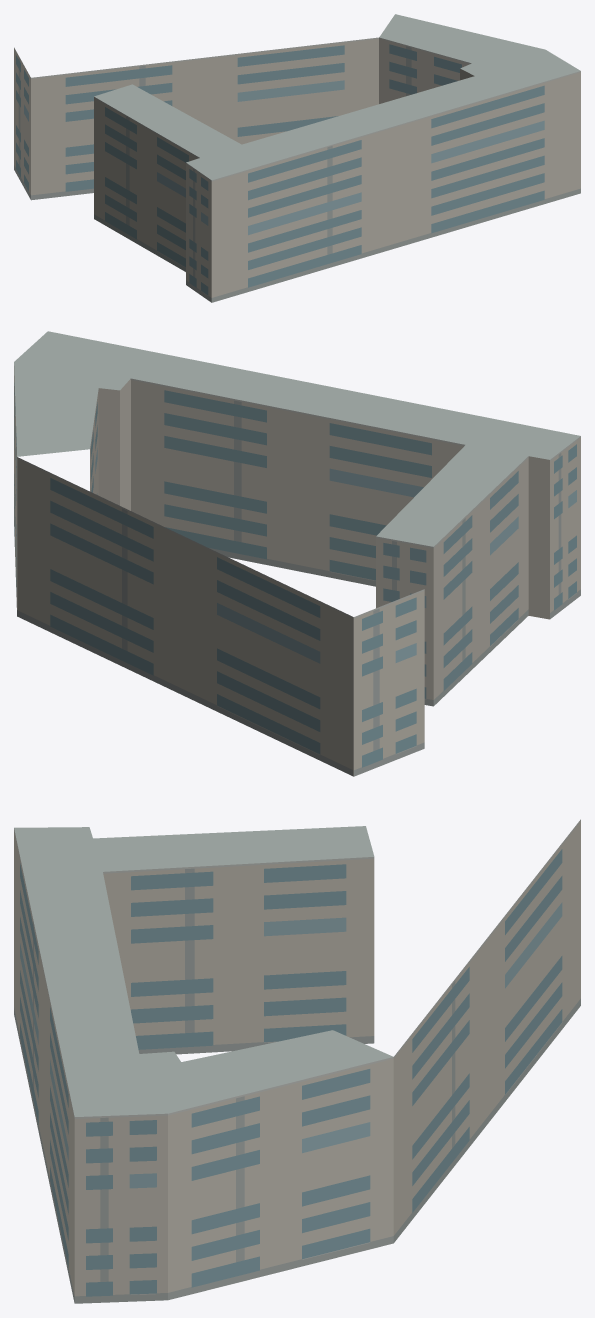
Rendered from residential-823aa729-4dda-44c4-87db-95105d133483.glb.
3 renders of one model, top to bottom at view 1: azimuth 30°, elevation 25°; view 2: azimuth 150°, elevation 25°; view 3: azimuth 270°, elevation 25°, orthographic. The views are drawn at different scales.
Parts seen in each view (by area): view 1: residential-823aa729-4dda-44c4-87db-95105d133483.tmp; view 2: residential-823aa729-4dda-44c4-87db-95105d133483.tmp; view 3: residential-823aa729-4dda-44c4-87db-95105d133483.tmp.
Part boxes in pixels (x1=…): residential-823aa729-4dda-44c4-87db-95105d133483.tmp: x1=14, y1=14, x2=580, y2=302; residential-823aa729-4dda-44c4-87db-95105d133483.tmp: x1=14, y1=331, x2=580, y2=776; residential-823aa729-4dda-44c4-87db-95105d133483.tmp: x1=14, y1=819, x2=580, y2=1303.
Bounding box in the file's own units: 89.64 × 25 × 68.84.
